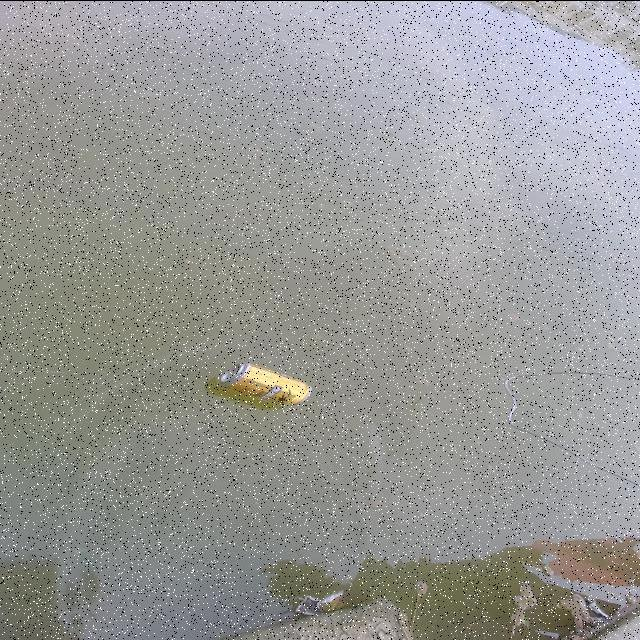Can: (219, 361, 309, 408)
